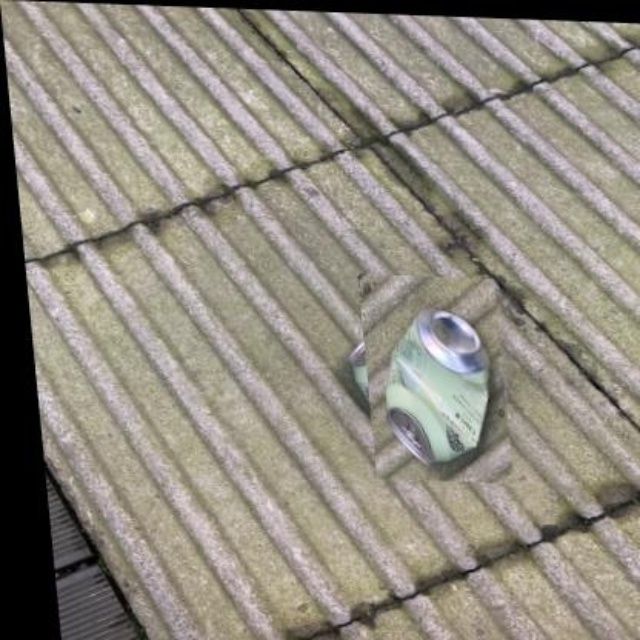trash: (386, 309, 486, 463)
